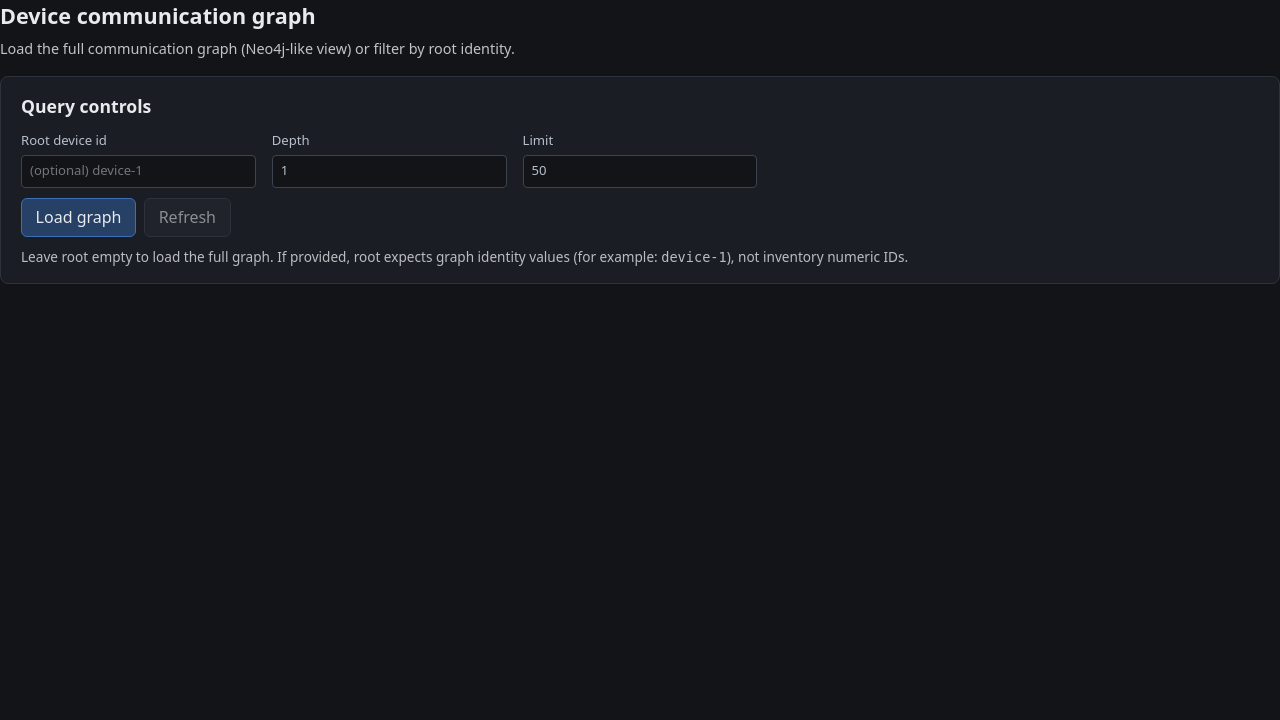
Test case: DeviceGraphPage › shows empty-state message when graph query returns no nodes
The width and height of the screenshot is (1280, 720).
Step 1. Type "unknown-device" into the field labelled "Root device id" → (138, 171), box [21,155,256,188]
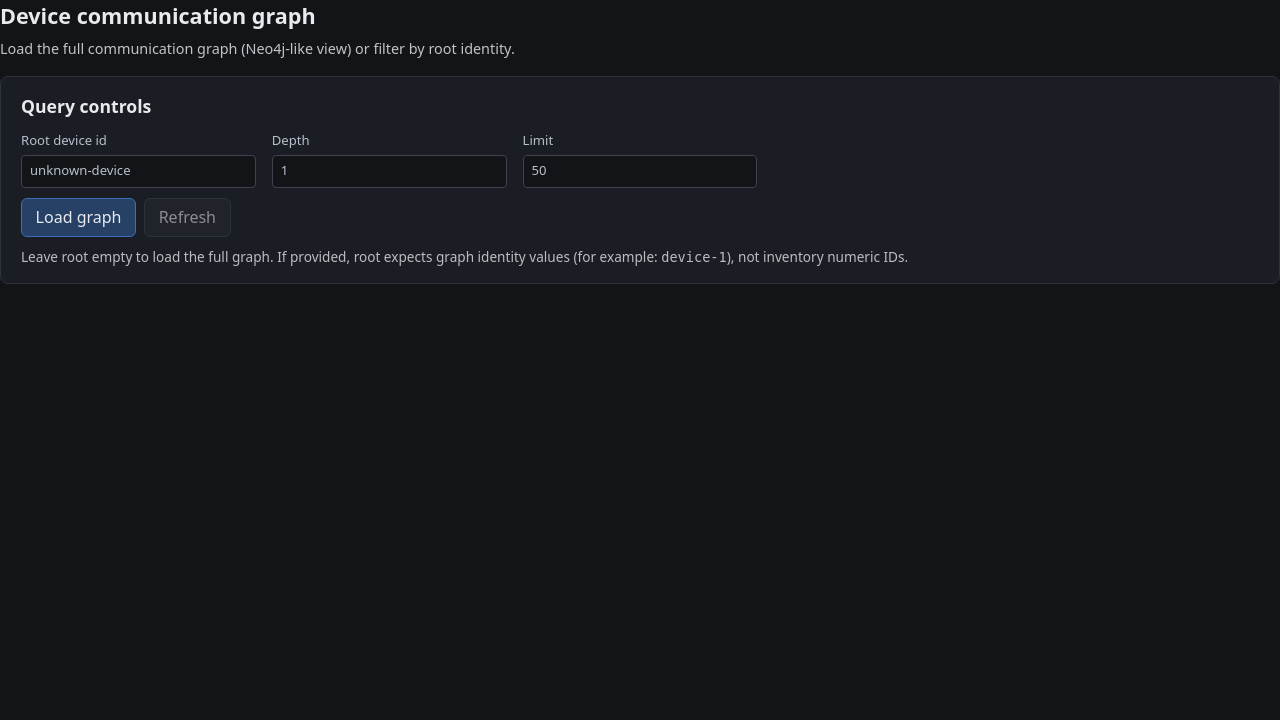
Step 2. Click the button "Load graph" → click(79, 217), box [21,198,136,237]
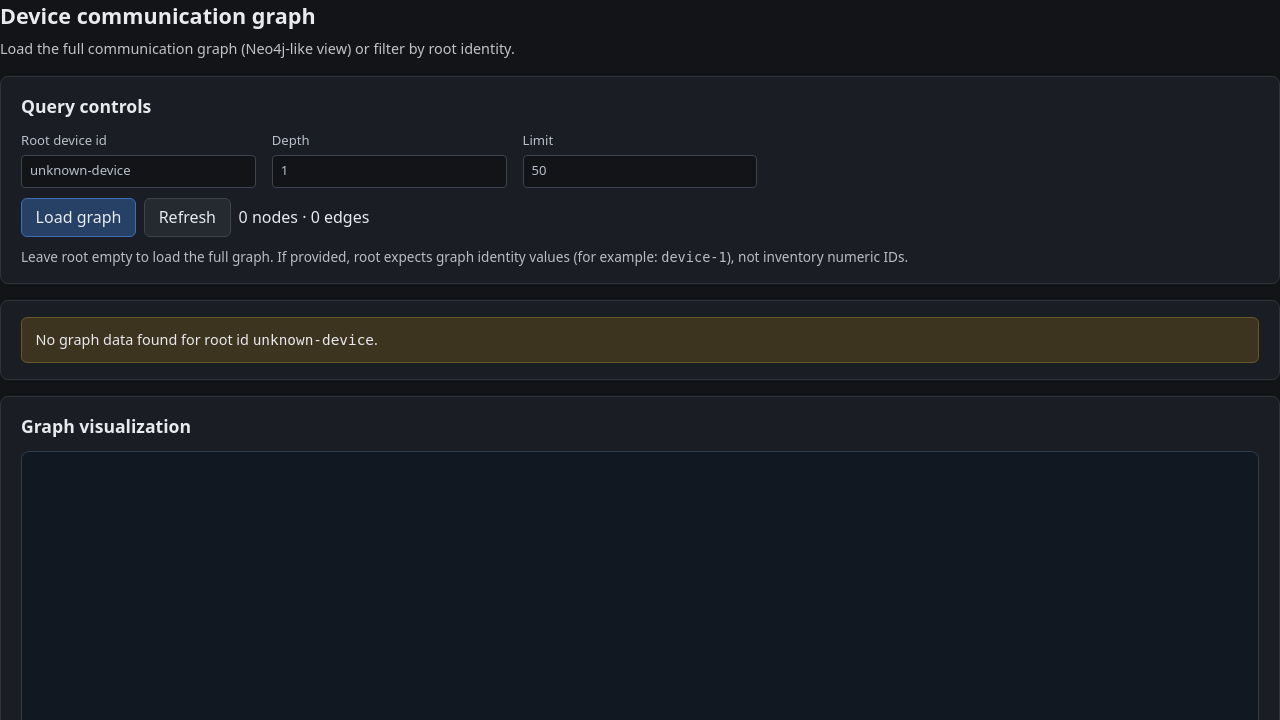
Check: the text "No graph data found for root id unknown-device." is shown, box [21,318,1259,363]
Check: the text "0 nodes · 0 edges" is shown, box [239,205,369,229]
